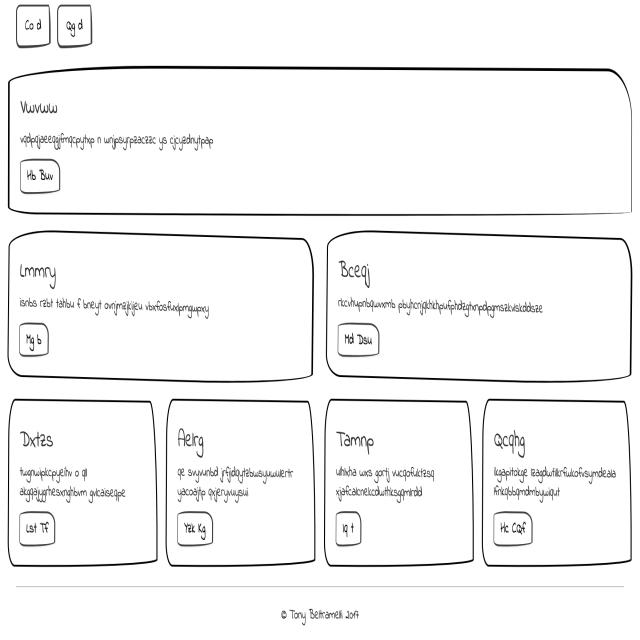Button: (175, 509, 215, 551), (494, 507, 534, 549), (20, 156, 62, 196), (19, 506, 54, 548), (336, 319, 381, 351), (18, 323, 52, 356), (336, 507, 362, 547)
Card: (3, 65, 634, 223), (327, 230, 633, 383), (8, 233, 312, 381), (8, 398, 157, 574), (165, 402, 318, 566), (483, 399, 631, 568), (323, 402, 474, 566)
Footer: (2, 579, 640, 640)
Heading 6: (336, 424, 376, 456), (176, 424, 208, 462), (487, 430, 530, 457), (18, 260, 56, 290), (337, 257, 373, 286), (18, 430, 60, 451), (20, 96, 60, 114)
Navigation Bar: (13, 3, 96, 53)
Paragraph: (18, 124, 214, 164), (20, 289, 212, 320), (338, 292, 546, 319), (492, 464, 620, 505), (175, 464, 296, 504), (334, 461, 438, 503), (18, 465, 126, 505)
